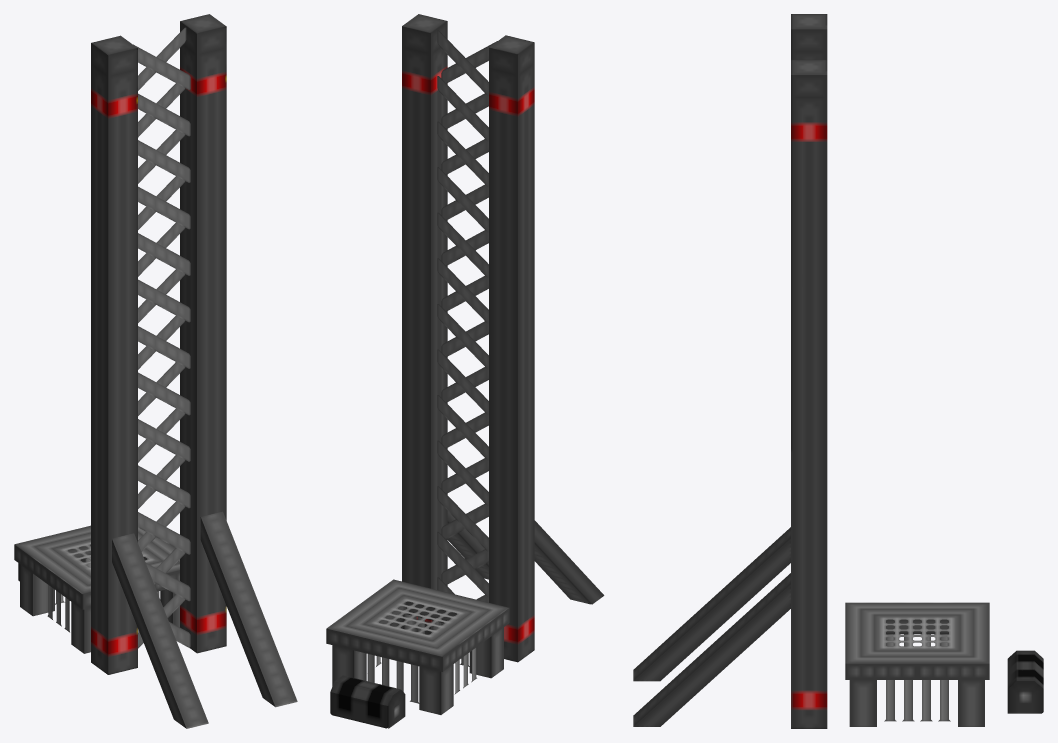
The model's file is abm_pad.obj.
3 views of the same model, side by side, from view 1: azimuth 30°, elevation 25°; view 2: azimuth 150°, elevation 25°; view 3: azimuth 270°, elevation 25° (orthographic). The views are drawn at different scales.
Visible parts, largest first — view 1: abm_pad; view 2: abm_pad; view 3: abm_pad.
Boxes of the visible parts, x1,y1,x2,y2 form: abm_pad: (14,14,297,728); abm_pad: (326,14,604,728); abm_pad: (633,14,1043,728).
Size of the model in its own units: 2 by 10 by 5.69.
